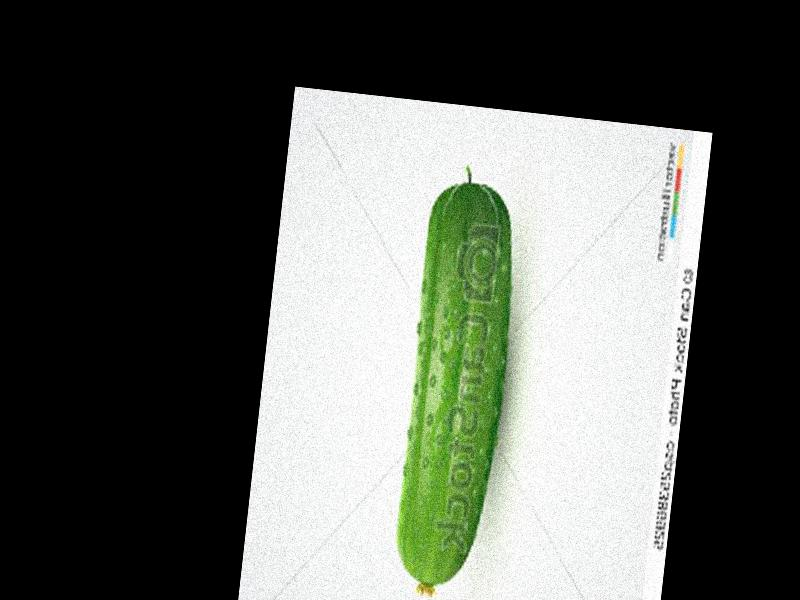Cucumber: (386, 161, 526, 600)
